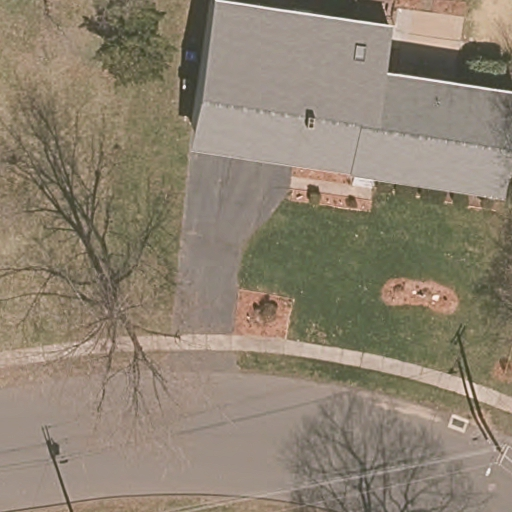DT: (491, 443, 512, 475)
